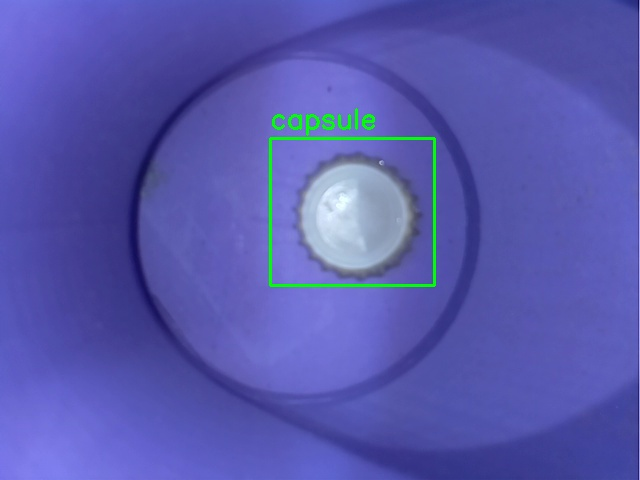capsule: (270, 138, 434, 285)
